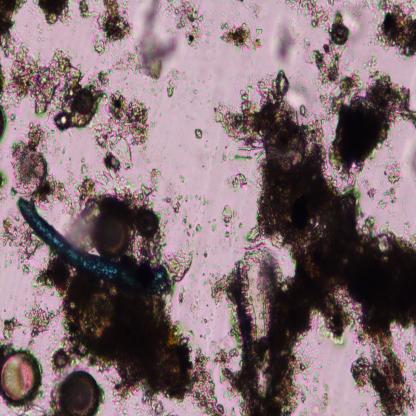Background material: (211, 68, 416, 354), (41, 257, 229, 413), (226, 272, 306, 414), (326, 68, 416, 179), (5, 48, 107, 129), (296, 0, 364, 97), (39, 166, 162, 211), (347, 339, 416, 416), (133, 0, 184, 98), (98, 88, 152, 169), (0, 298, 54, 354), (373, 0, 416, 60), (95, 0, 134, 64), (166, 0, 215, 48), (0, 352, 42, 406), (0, 220, 37, 276), (216, 15, 267, 54), (304, 354, 335, 416), (169, 191, 205, 237), (215, 201, 245, 245), (0, 0, 23, 55), (377, 159, 401, 209), (35, 1, 74, 30), (273, 18, 296, 61), (49, 129, 74, 158), (403, 136, 416, 184), (193, 238, 210, 264), (229, 172, 251, 192), (76, 0, 94, 19), (185, 81, 201, 101), (177, 286, 188, 306), (175, 173, 185, 185), (194, 128, 203, 140)
Diatom: (235, 249, 281, 410), (57, 368, 101, 416), (9, 144, 46, 195), (89, 213, 129, 258), (233, 134, 277, 159), (0, 103, 5, 139)
Unknown: (17, 201, 171, 295)
